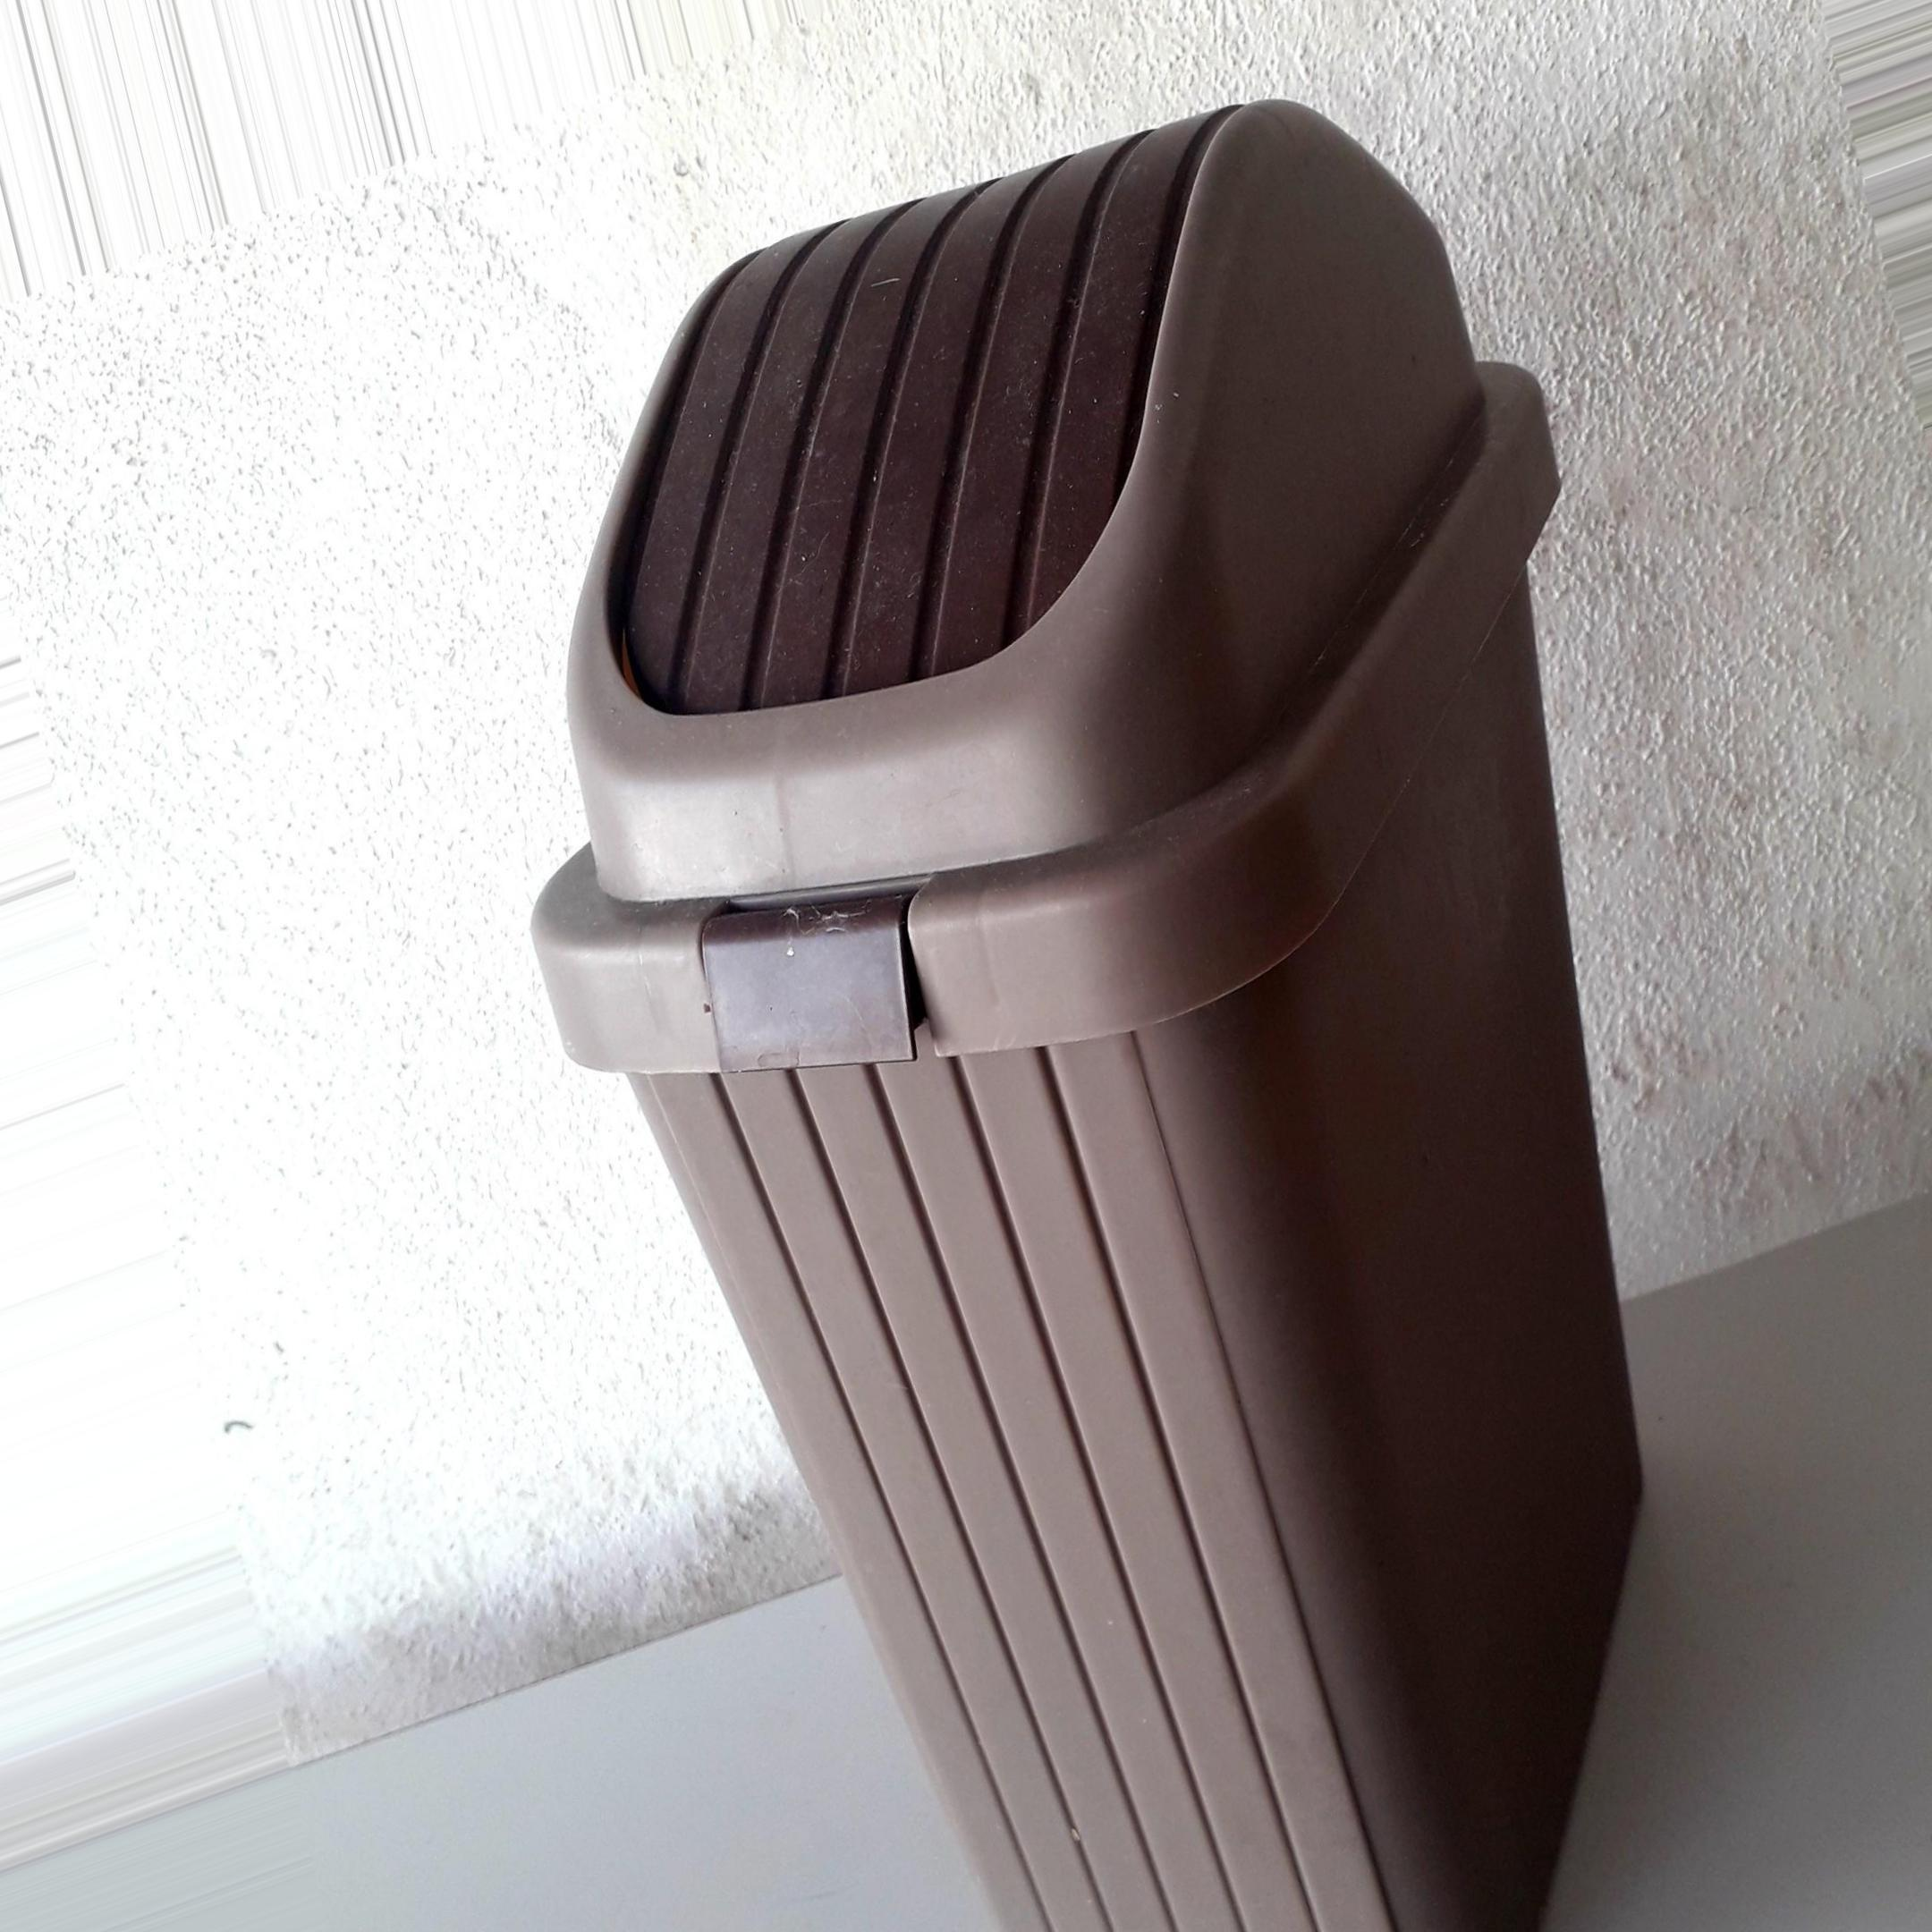Bote de Basura: (556, 127, 1628, 1930)
